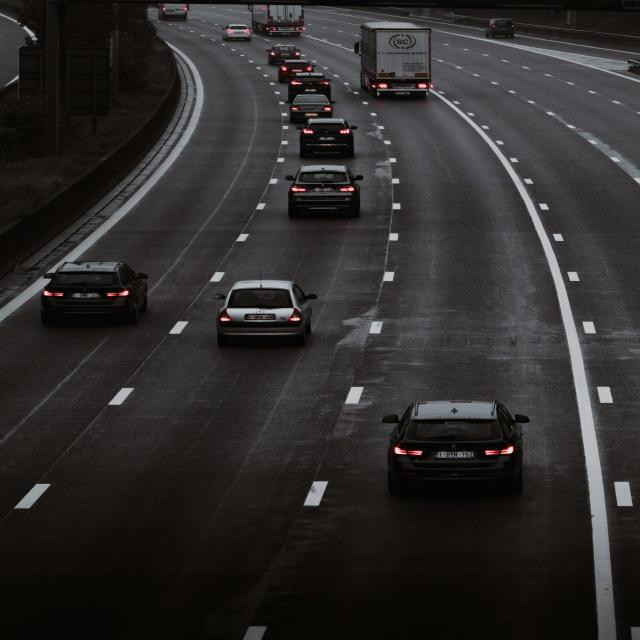Bus: (248, 4, 306, 36)
Car: (381, 399, 530, 495), (213, 279, 317, 347), (40, 261, 149, 325), (284, 165, 364, 218), (299, 118, 357, 158), (288, 72, 331, 103), (289, 94, 333, 123), (278, 59, 314, 82), (266, 44, 301, 65), (486, 18, 514, 38), (222, 24, 252, 41), (158, 4, 187, 21)
Truck: (354, 22, 432, 98)
